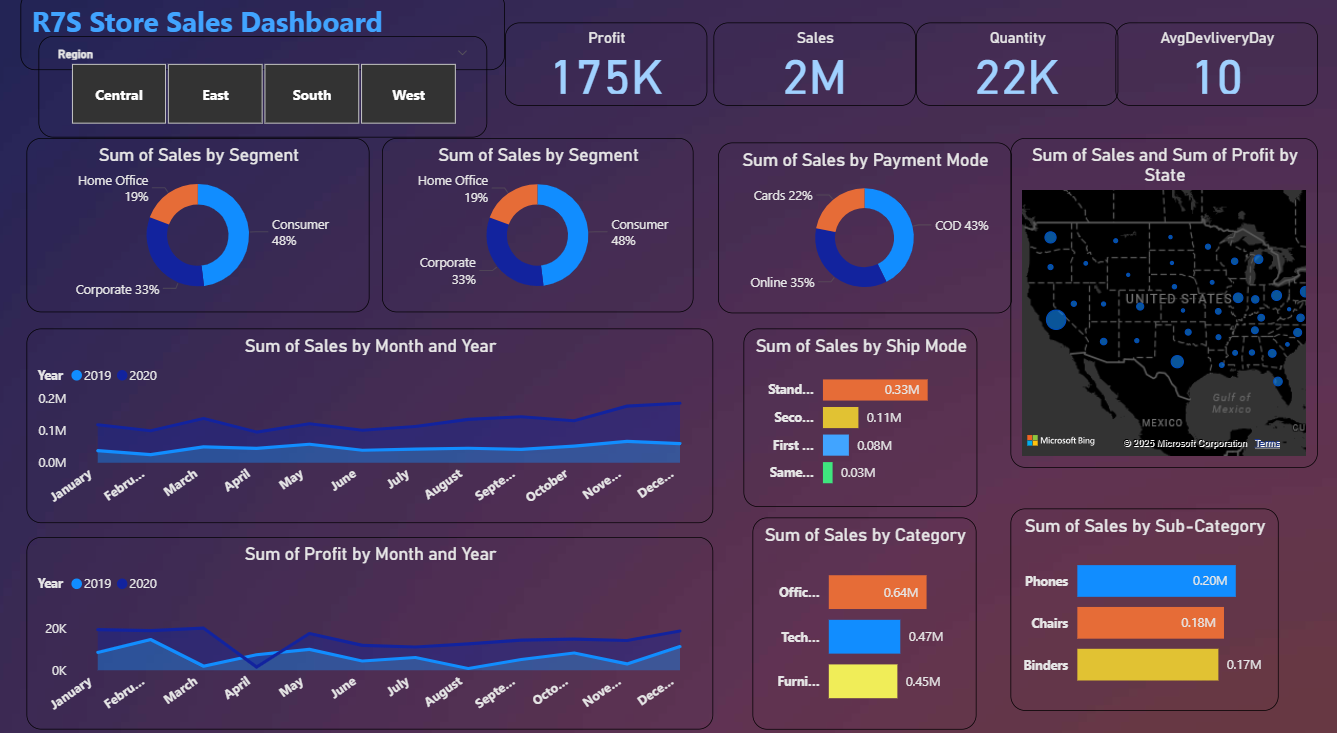

Layout of this report page (visuals, bound fields, positions):
{"tool":"powerbi","page":{"name":"Page 1","canvas":[1280,720],"ordinal":0},"visuals":[{"type":"clusteredBarChart","fields":{"Category":["SuperStore_Sales_Dataset.Category"],"Y":["Sum(SuperStore_Sales_Dataset.Sales)"]},"box":[721.9,500.8,213.5,202.2],"z":0},{"type":"clusteredBarChart","fields":{"Y":["Sum(SuperStore_Sales_Dataset.Sales)"],"Category":["SuperStore_Sales_Dataset.Sub-Category"]},"box":[967.6,493.2,255.1,192.8],"z":1000},{"type":"clusteredBarChart","fields":{"Y":["Sum(SuperStore_Sales_Dataset.Sales)"],"Category":["SuperStore_Sales_Dataset.Ship Mode"]},"box":[712.4,321.3,223,170.1],"z":2000},{"type":"stackedAreaChart","fields":{"Y":["Sum(SuperStore_Sales_Dataset.Sales)"],"Category":["SuperStore_Sales_Dataset.Order Date.Variation.Date Hierarchy.Month","SuperStore_Sales_Dataset.Order Date.Variation.Date Hierarchy.Day"],"Series":["SuperStore_Sales_Dataset.Order Date.Variation.Date Hierarchy.Year"]},"box":[30.2,321.3,653.9,185.2],"z":3000},{"type":"stackedAreaChart","fields":{"Category":["SuperStore_Sales_Dataset.Order Date.Variation.Date Hierarchy.Month","SuperStore_Sales_Dataset.Order Date.Variation.Date Hierarchy.Day"],"Series":["SuperStore_Sales_Dataset.Order Date.Variation.Date Hierarchy.Year"],"Y":["Sum(SuperStore_Sales_Dataset.Profit)"]},"box":[30.2,519.7,653.9,183.3],"z":4000},{"type":"map","fields":{"Category":["SuperStore_Sales_Dataset.State"],"Size":["Sum(SuperStore_Sales_Dataset.Sales)"]},"box":[967.6,139.8,292.9,313.7],"z":5000},{"type":"donutChart","fields":{"Category":["SuperStore_Sales_Dataset.Segment"],"Y":["Sum(SuperStore_Sales_Dataset.Sales)"]},"box":[368.5,139.8,296.7,166.3],"z":6000},{"type":"donutChart","fields":{"Category":["SuperStore_Sales_Dataset.Payment Mode"],"Y":["Sum(SuperStore_Sales_Dataset.Sales)"]},"box":[687.9,143.6,279.7,162.5],"z":7000},{"type":"textbox","box":[24.6,0,461.1,75.6],"z":8000},{"type":"card","title":"Sales","fields":{"Values":["Sum(SuperStore_Sales_Dataset.Sales)"]},"box":[684.1,30.2,192.8,79.4],"z":9000},{"type":"card","title":"Quantity ","fields":{"Values":["Sum(SuperStore_Sales_Dataset.Quantity)"]},"box":[876.9,30.2,192.8,79.4],"z":10000},{"type":"card","title":"Profit ","fields":{"Values":["Sum(SuperStore_Sales_Dataset.Profit)"]},"box":[485.7,30.2,192.8,79.4],"z":11000},{"type":"card","title":"AvgDevliveryDay","fields":{"Values":["Avg(SuperStore_Sales_Dataset.Avgdelivery)"]},"box":[1067.7,30.2,192.8,79.4],"z":12000},{"type":"donutChart","fields":{"Category":["SuperStore_Sales_Dataset.Segment"],"Y":["Sum(SuperStore_Sales_Dataset.Sales)"]},"box":[30.2,139.8,326.9,166.3],"z":13000},{"type":"slicer","fields":{"Values":["SuperStore_Sales_Dataset.Region"]},"box":[41.6,43.5,427.1,96.4],"z":14000}]}

Visuals, with their boxes in screenshot pixels (x1, y1, x2, y2), scaled from the page's 1280x720 canvas onto the 1337x733 screenshot:
clusteredBarChart - SuperStore_Sales_Dataset.Category x Sum(SuperStore_Sales_Dataset.Sales): <bbox>754, 510, 977, 716</bbox>
clusteredBarChart - Sum(SuperStore_Sales_Dataset.Sales) x SuperStore_Sales_Dataset.Sub-Category: <bbox>1011, 502, 1277, 698</bbox>
clusteredBarChart - Sum(SuperStore_Sales_Dataset.Sales) x SuperStore_Sales_Dataset.Ship Mode: <bbox>744, 327, 977, 500</bbox>
stackedAreaChart - Sum(SuperStore_Sales_Dataset.Sales) x SuperStore_Sales_Dataset.Order Date.Variation.Date Hierarchy.Month: <bbox>32, 327, 715, 516</bbox>
stackedAreaChart - SuperStore_Sales_Dataset.Order Date.Variation.Date Hierarchy.Month x SuperStore_Sales_Dataset.Order Date.Variation.Date Hierarchy.Day: <bbox>32, 529, 715, 716</bbox>
map - SuperStore_Sales_Dataset.State x Sum(SuperStore_Sales_Dataset.Sales): <bbox>1011, 142, 1317, 462</bbox>
donutChart - SuperStore_Sales_Dataset.Segment x Sum(SuperStore_Sales_Dataset.Sales): <bbox>385, 142, 695, 312</bbox>
donutChart - SuperStore_Sales_Dataset.Payment Mode x Sum(SuperStore_Sales_Dataset.Sales): <bbox>719, 146, 1011, 312</bbox>
textbox: <bbox>26, 0, 507, 77</bbox>
"Sales" card: <bbox>715, 31, 916, 112</bbox>
"Quantity " card: <bbox>916, 31, 1117, 112</bbox>
"Profit " card: <bbox>507, 31, 709, 112</bbox>
"AvgDevliveryDay" card: <bbox>1115, 31, 1317, 112</bbox>
donutChart - SuperStore_Sales_Dataset.Segment x Sum(SuperStore_Sales_Dataset.Sales): <bbox>32, 142, 373, 312</bbox>
slicer - SuperStore_Sales_Dataset.Region: <bbox>43, 44, 490, 142</bbox>
